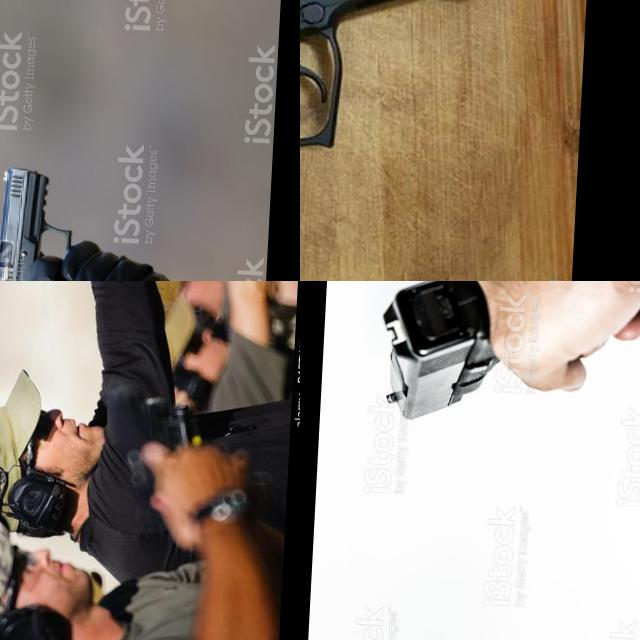handgun: (300, 0, 507, 281), (374, 281, 513, 427), (0, 163, 77, 281), (198, 281, 273, 335), (0, 281, 60, 337)
